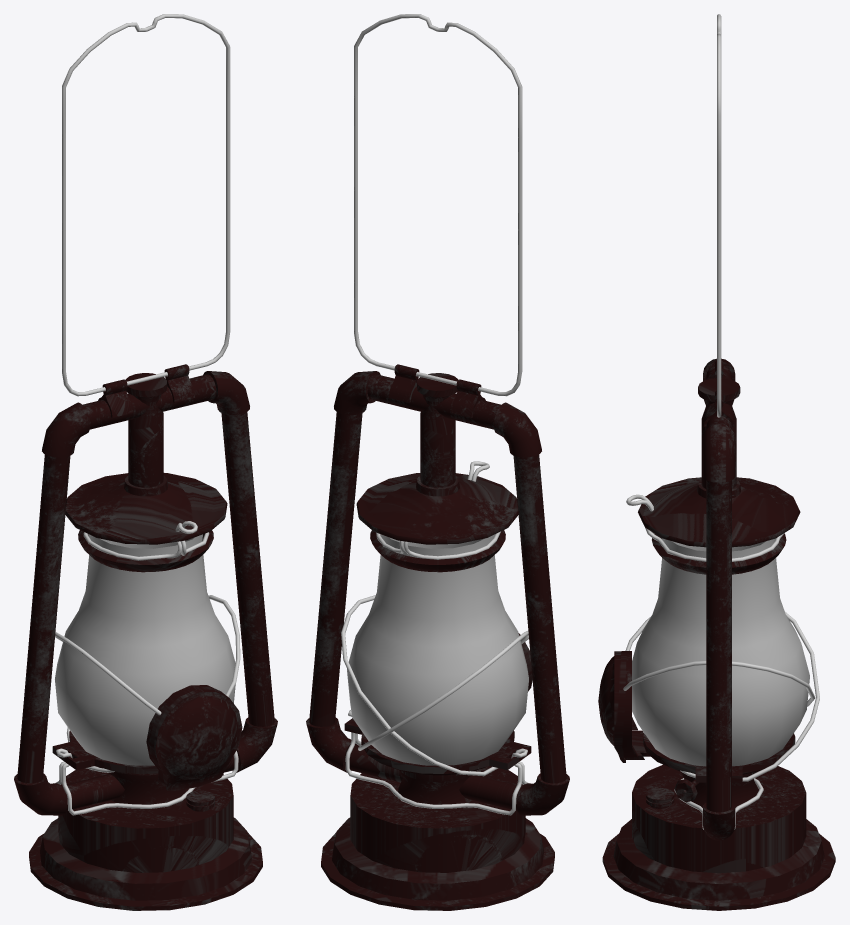
3 renders of one model, left to right at view 1: azimuth 30°, elevation 25°; view 2: azimuth 150°, elevation 25°; view 3: azimuth 270°, elevation 25°, orthographic.
Parts seen in each view (by area): view 1: Circle_lp.001_Circle.008; view 2: Circle_lp.001_Circle.008; view 3: Circle_lp.001_Circle.008.
Boxes of the visible parts, <box> form: Circle_lp.001_Circle.008: <box>14,14,277,910</box>; Circle_lp.001_Circle.008: <box>306,14,569,910</box>; Circle_lp.001_Circle.008: <box>598,14,835,910</box>.
Size of the model in its own units: 2.05 by 6.35 by 1.64.
